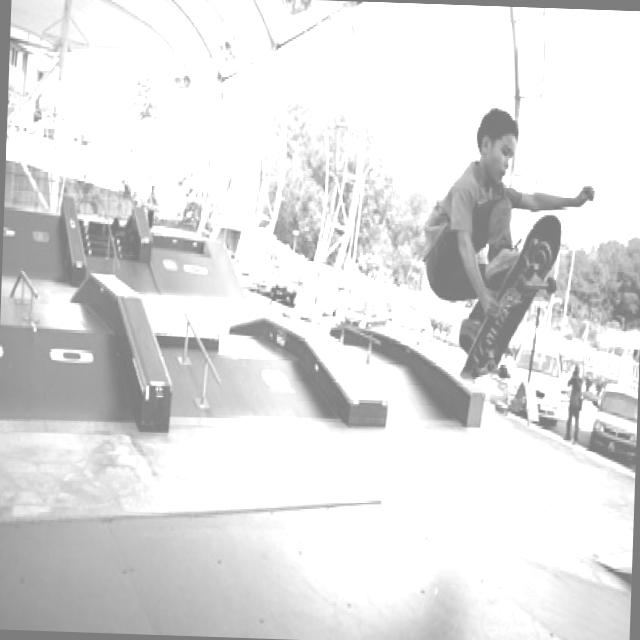Vehicle: (505, 325, 564, 425), (586, 381, 638, 467), (387, 304, 434, 348), (338, 296, 388, 331), (269, 268, 304, 306), (254, 260, 286, 294)
